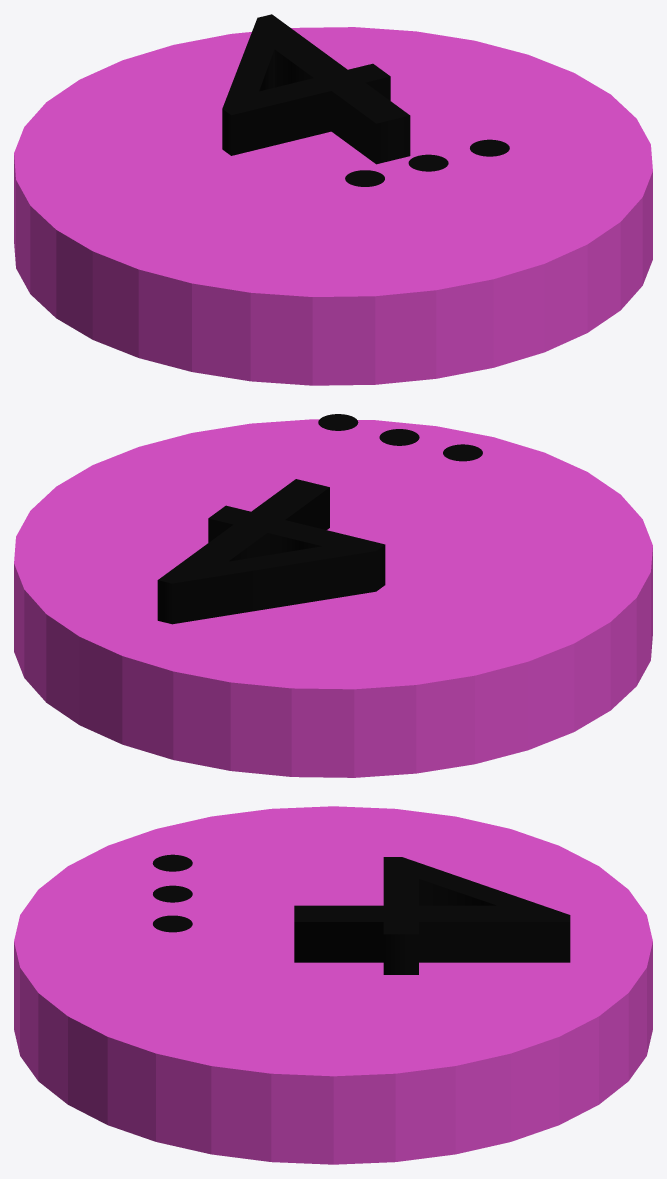
File: fou.fbx
3 views of the same model, one above another, from view 1: azimuth 30°, elevation 25°; view 2: azimuth 150°, elevation 25°; view 3: azimuth 270°, elevation 25° (orthographic).
Parts seen in each view (by area): view 1: Circle, Text.001, Circle.007, Circle.001, Circle.008; view 2: Circle, Text.001, Circle.008, Circle.007, Circle.001; view 3: Circle, Text.001, Circle.007, Circle.001, Circle.008.
Boxes of the visible parts, bbox=[...] form: Circle: bbox=[14, 27, 652, 385]; Text.001: bbox=[222, 14, 410, 164]; Circle.007: bbox=[408, 154, 448, 171]; Circle.001: bbox=[470, 139, 509, 156]; Circle.008: bbox=[345, 170, 384, 186]; Circle: bbox=[14, 419, 652, 777]; Text.001: bbox=[157, 479, 385, 624]; Circle.008: bbox=[443, 444, 482, 461]; Circle.007: bbox=[379, 429, 419, 445]; Circle.001: bbox=[318, 414, 358, 430]; Circle: bbox=[14, 806, 652, 1164]; Text.001: bbox=[294, 857, 570, 974]; Circle.007: bbox=[153, 885, 192, 902]; Circle.001: bbox=[153, 915, 192, 932]; Circle.008: bbox=[152, 854, 192, 871].
Bounding box in the file's own units: 200 × 49.27 × 200.
